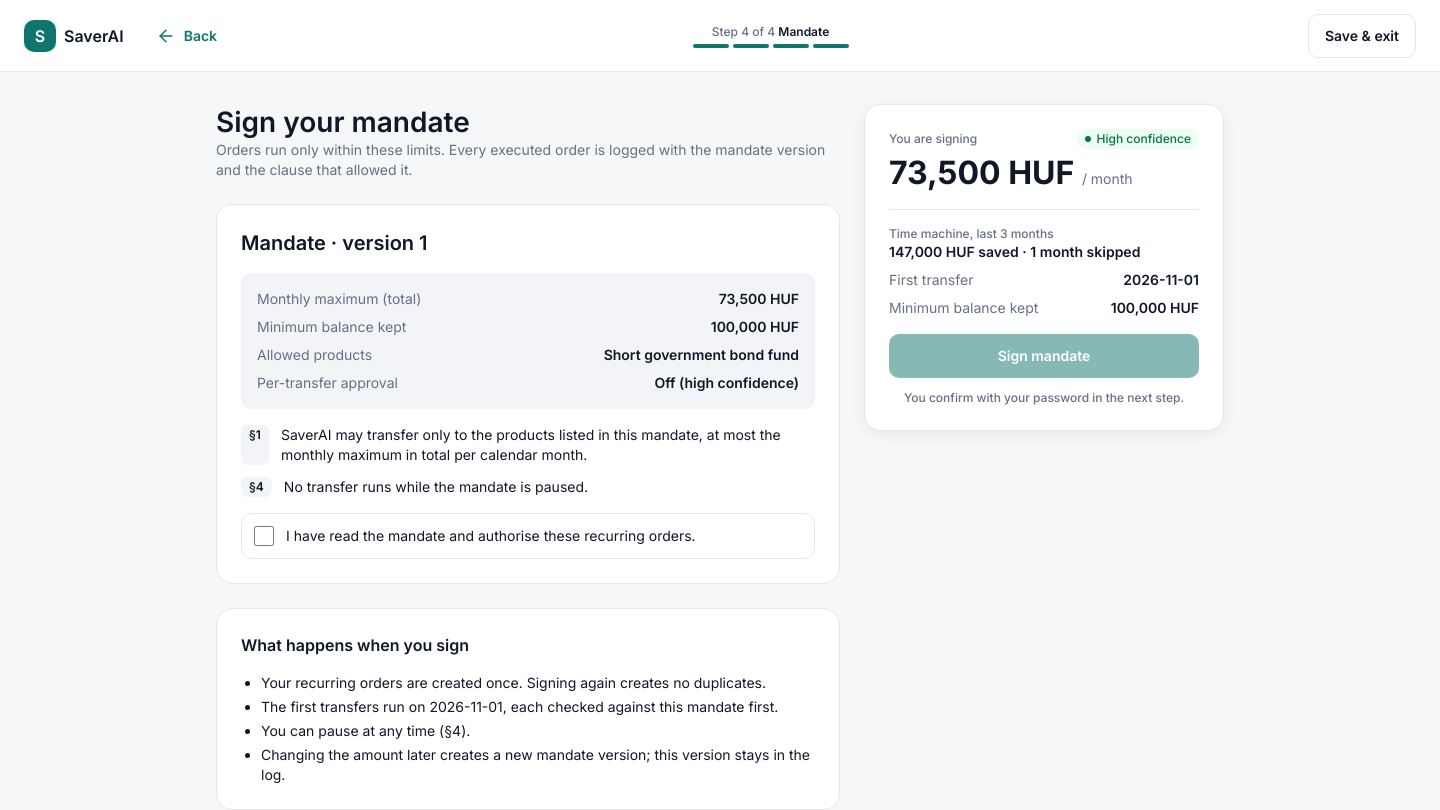
Test: Esc closes the modal without signing
Expected: the button "Sign mandate" is disabled, [889, 334, 1199, 378]
Click the checkbox labelled "I have read the mandate and authorise these recurring orders." at (264, 536), box [254, 526, 274, 546]
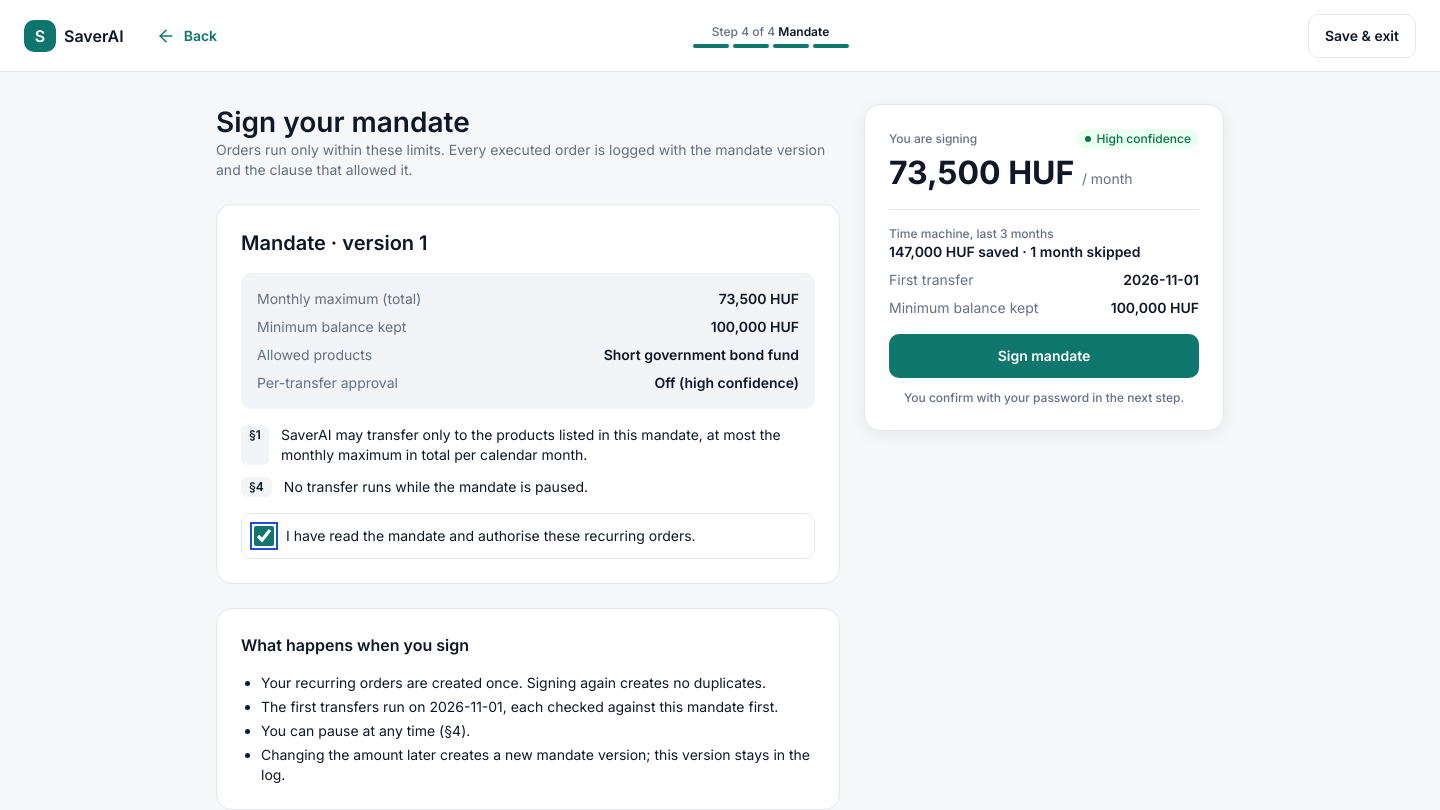
Click the button "Sign mandate" at (1044, 356), box [889, 334, 1199, 378]
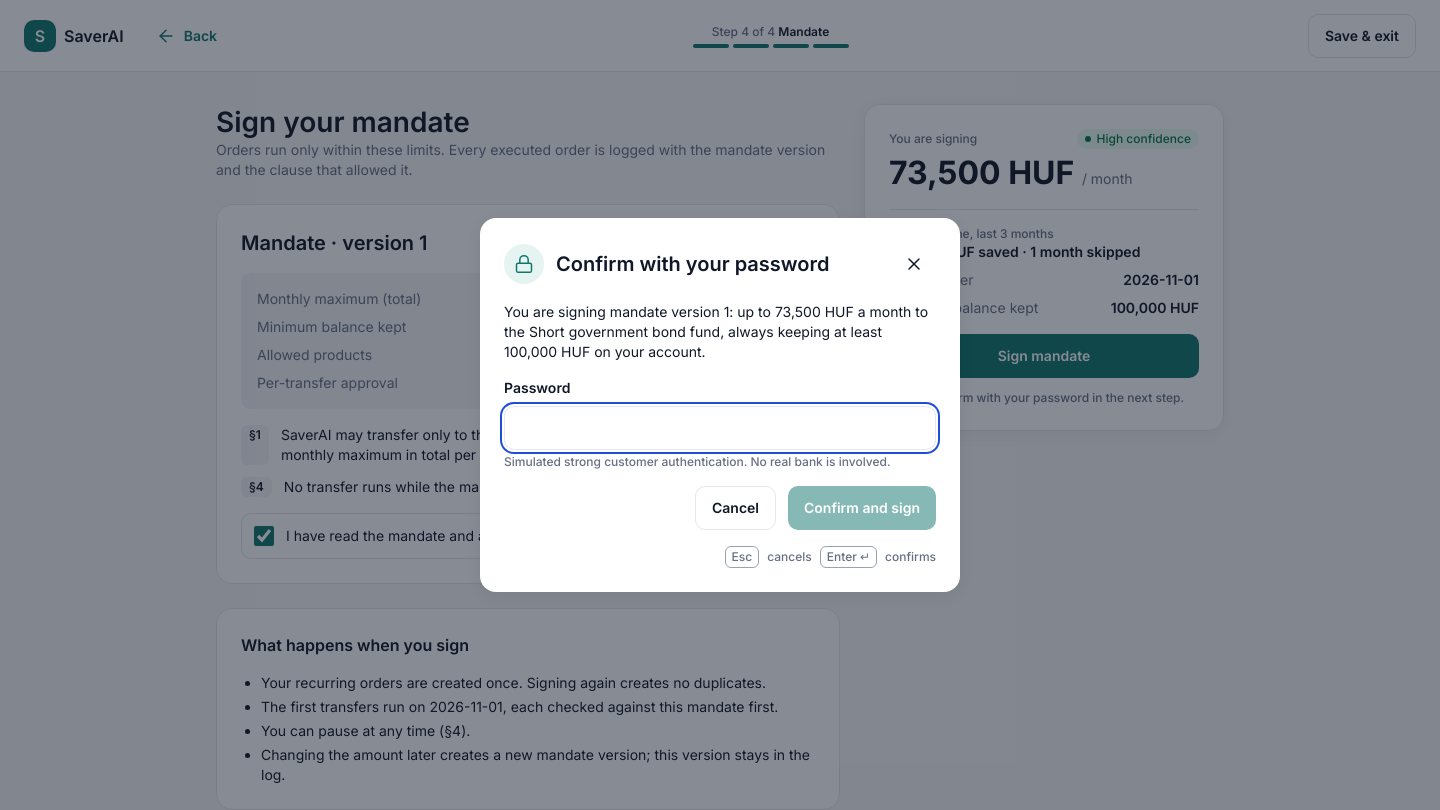
Press Escape
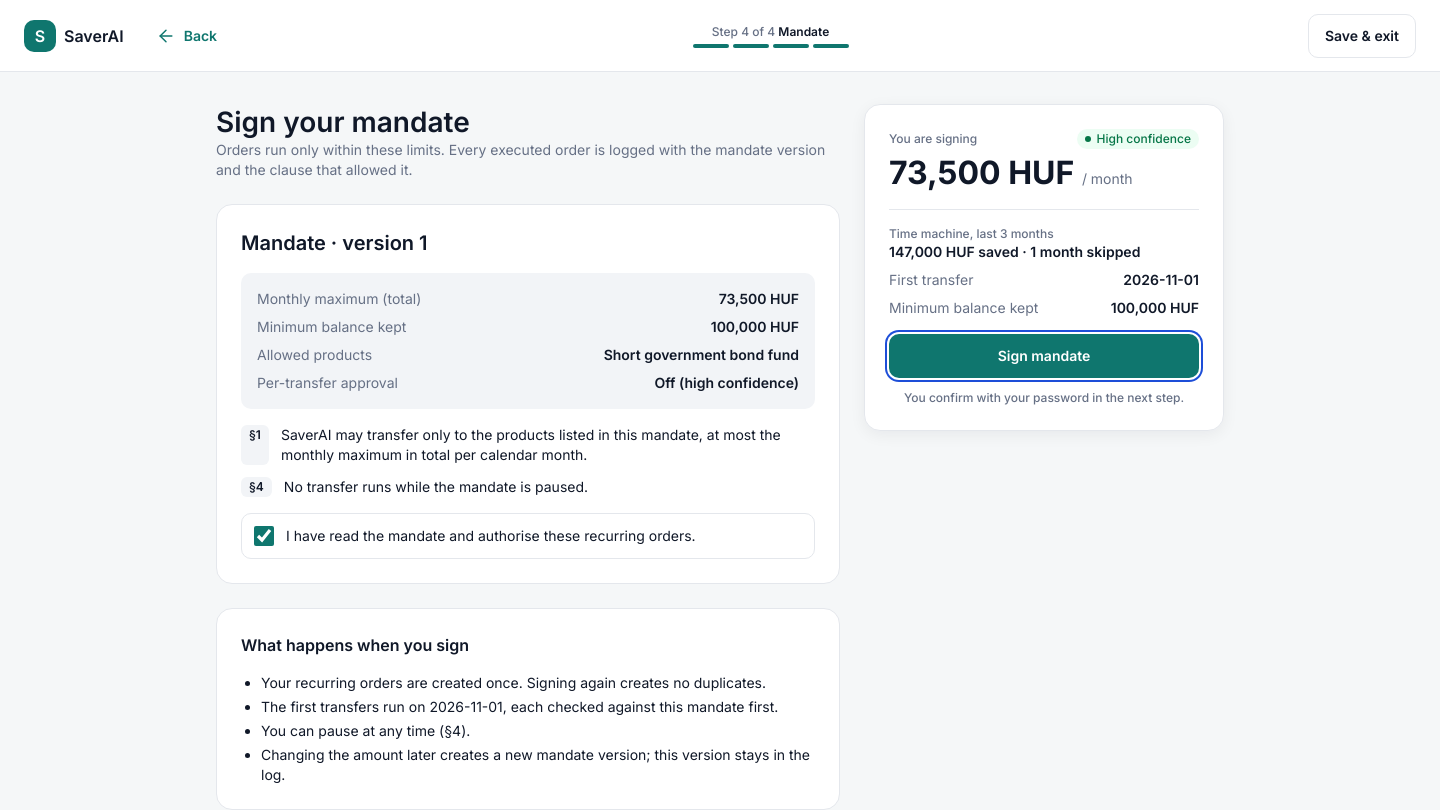
Now the dialog is gone
